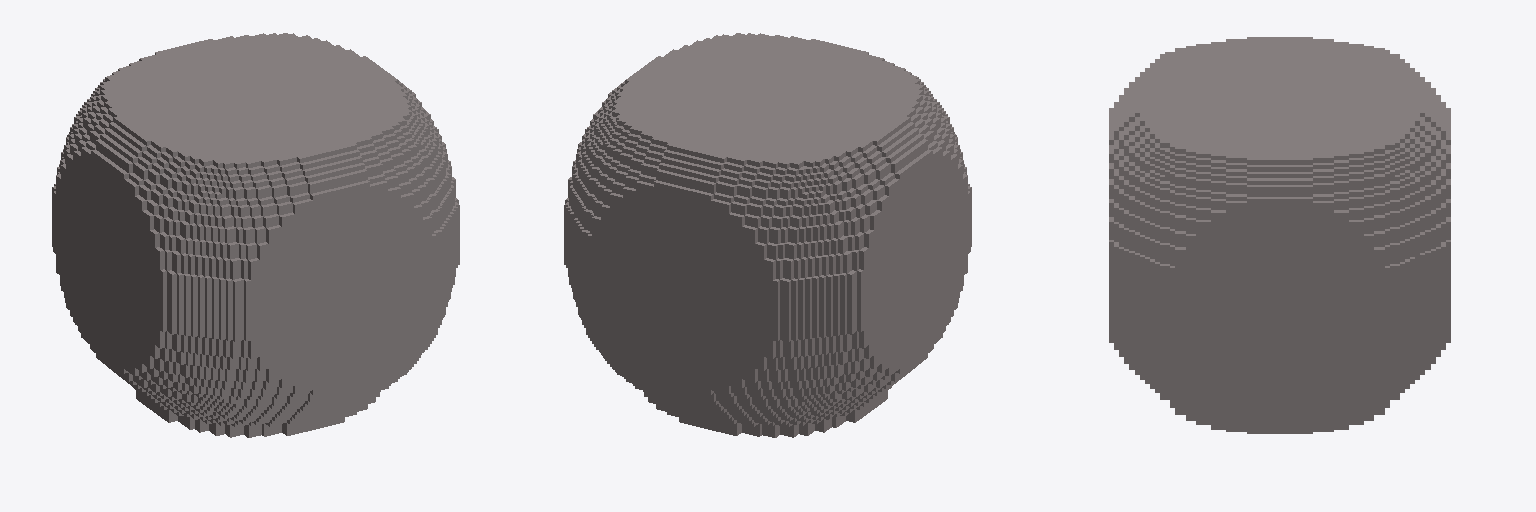
The picture shows the model from 3 angles: view 1: azimuth 30°, elevation 25°; view 2: azimuth 150°, elevation 25°; view 3: azimuth 270°, elevation 25°; orthographic projection.
Bounding box in the file's own units: 67 × 68 × 67.
1 materials, 1 textured.